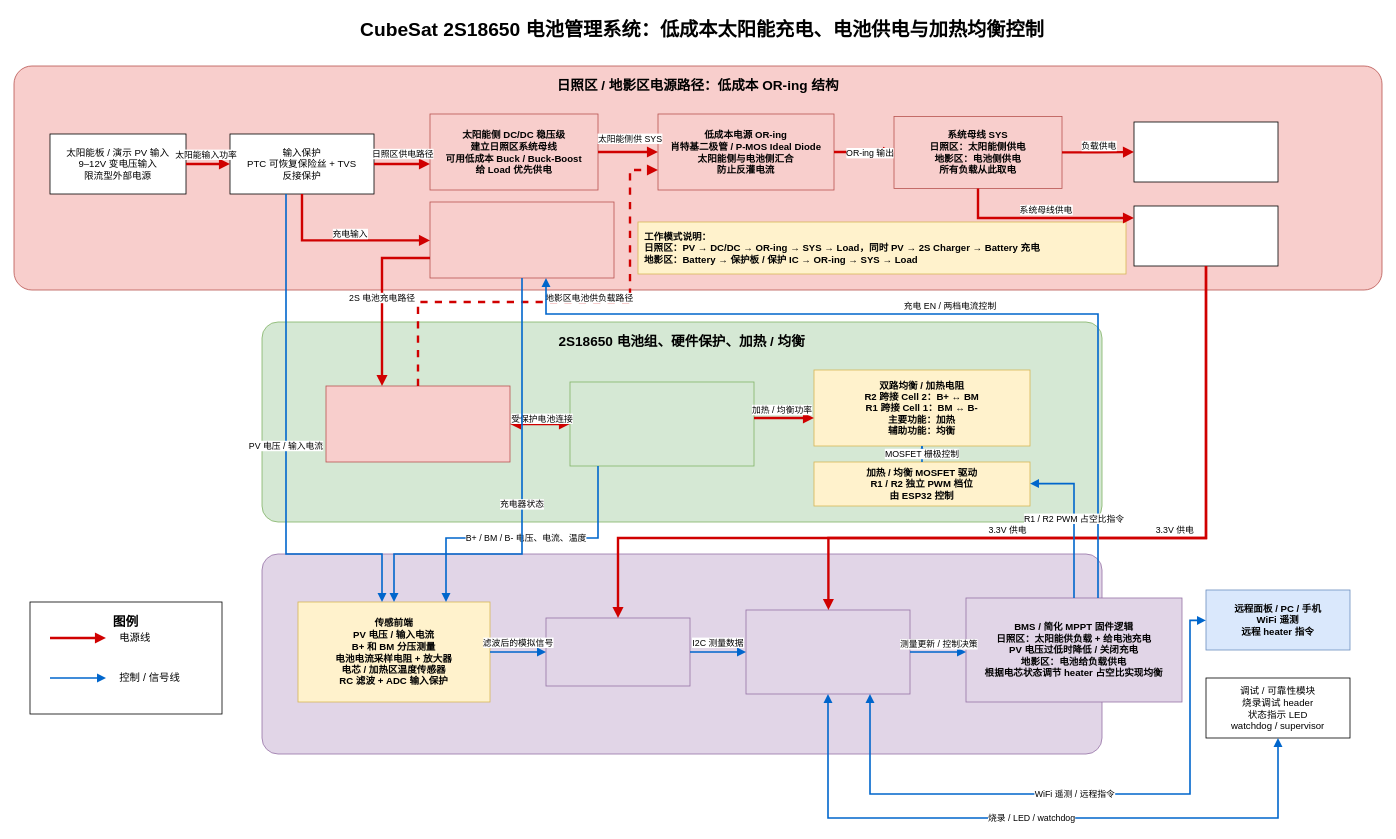
Image size: 1396x839. Some labels were removed from this diagram. The box of each missing label's shape, as (x1, y1, x2, y2) in pixels:
2S 电池保护板 / 保护 IC 过压 / 欠压 / 过流 / 短路 / 过温 CHG / DSG MOSFETs 独立安全保护层: (325, 385, 510, 462)
2S18650 电池组 B+ / BM / B- 抽头 Cell 2：B+ 到 BM Cell 1：BM 到 B-: (569, 381, 754, 466)
3.3V Buck 稳压器 给 ESP32、ADC、传感器供电: (1133, 205, 1278, 266)
CubeSat 负载输出 EPS / Payload / 演示负载: (1133, 121, 1278, 182)
ESP32-WROOM MCU + WiFi I2C / PWM / GPIO / UART 遥测 + 远程控制: (745, 609, 910, 694)
低成本 2S 太阳能充电器 CN3791 模块 / BQ24650 可选 2S 锂电 CC/CV 充电 EN 或两档电流控制实现简化 MPPT: (429, 201, 614, 278)
外置 ADC 候选：ADS1115 16-bit I2C ADC 用于关键测量: (545, 617, 690, 686)
测量、简化 MPPT 控制、遥测与调试: (261, 553, 1102, 754)
